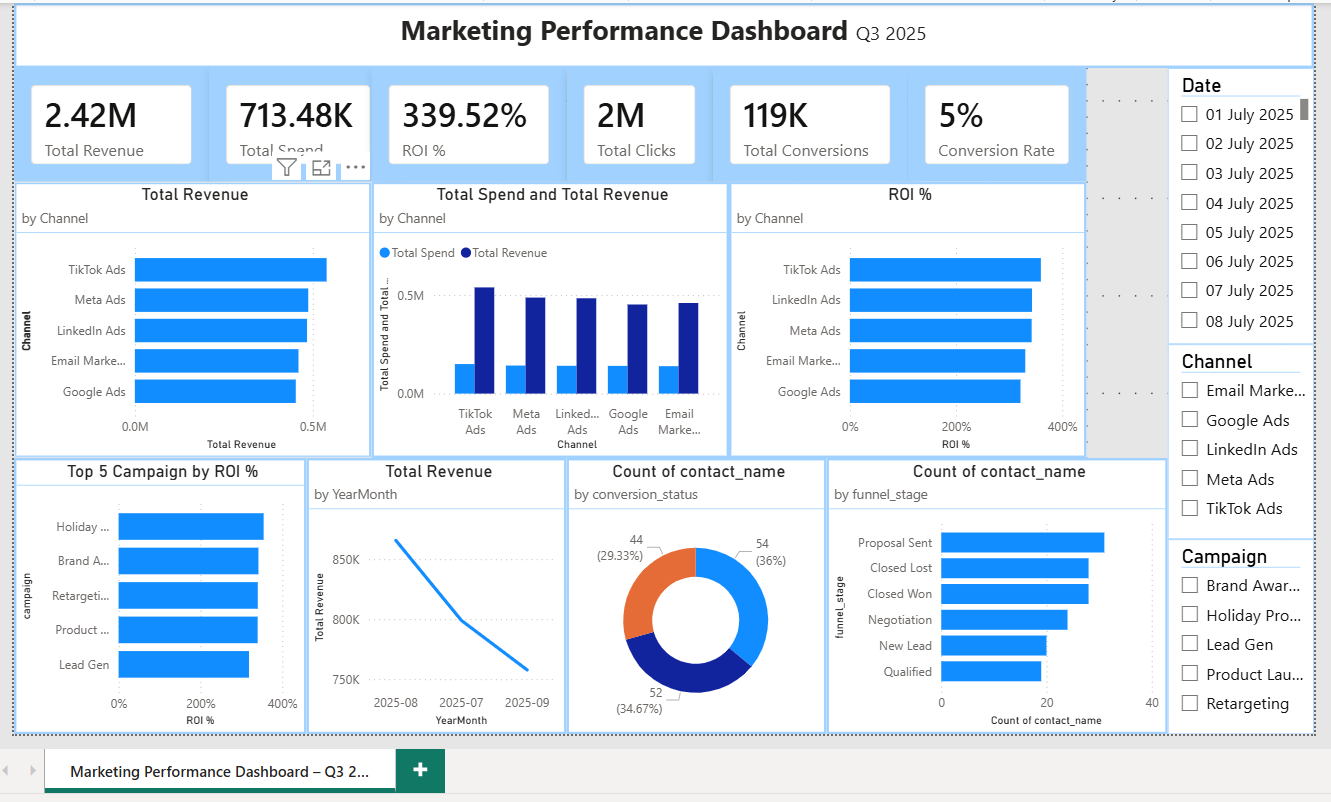

Layout of this report page (visuals, bound fields, positions):
{"tool":"powerbi","page":{"name":"Marketing Performance Dashboard – Q3 2025","canvas":[1280,720],"ordinal":0},"visuals":[{"type":"cardVisual","fields":{"Data":["Campaign_Data_Q3_Cleaned.Total Revenue"]},"box":[0,64,192,112],"z":0},{"type":"cardVisual","fields":{"Data":["Campaign_Data_Q3_Cleaned.Total Spend"]},"box":[192,64,176,112],"z":500},{"type":"cardVisual","fields":{"Data":["Campaign_Data_Q3_Cleaned.ROI %"]},"box":[352,64,192,112],"z":1000},{"type":"cardVisual","fields":{"Data":["Campaign_Data_Q3_Cleaned.Total Clicks"]},"box":[544,64,144,112],"z":1500},{"type":"cardVisual","fields":{"Data":["Campaign_Data_Q3_Cleaned.Total Conversions"]},"box":[688,64,192,112],"z":2000},{"type":"cardVisual","fields":{"Data":["Campaign_Data_Q3_Cleaned.Conversion Rate"]},"box":[880,64,176,112],"z":2500},{"type":"clusteredBarChart","fields":{"Y":["Campaign_Data_Q3_Cleaned.Total Revenue"],"Category":["ChannelTable.Channel"]},"box":[0,176,352,272],"z":6000},{"type":"clusteredColumnChart","fields":{"Y":["Campaign_Data_Q3_Cleaned.Total Spend","Campaign_Data_Q3_Cleaned.Total Revenue"],"Category":["ChannelTable.Channel"]},"box":[352,176,352,272],"z":7000},{"type":"barChart","fields":{"Y":["Campaign_Data_Q3_Cleaned.ROI %"],"Category":["ChannelTable.Channel"]},"box":[704,176,352,272],"z":8000},{"type":"donutChart","fields":{"Y":["CountNonNull(Leads Report.contact_name)"],"Category":["Leads Report.conversion_status"]},"box":[544,448,256,272],"z":9000},{"type":"barChart","title":"Top 5 Campaign by ROI %","fields":{"Y":["Campaign_Data_Q3_Cleaned.ROI %"],"Category":["Campaign_Data_Q3_Cleaned.campaign"]},"box":[0,448,288,272],"z":10000},{"type":"lineChart","fields":{"Category":["DateTable.YearMonth"],"Y":["Campaign_Data_Q3_Cleaned.Total Revenue"]},"box":[288,448,256,272],"z":11000},{"type":"barChart","fields":{"Category":["Leads Report.funnel_stage"],"Y":["CountNonNull(Leads Report.contact_name)"]},"box":[800,448,336,272],"z":12000},{"type":"slicer","fields":{"Values":["Campaign_Data_Q3_Cleaned.channel"]},"box":[1136,336,144,192],"z":13000},{"type":"slicer","fields":{"Values":["Campaign_Data_Q3_Cleaned.campaign"]},"box":[1136,528,144,192],"z":14000},{"type":"slicer","fields":{"Values":["Campaign_Data_Q3_Cleaned.date"]},"box":[1136,64,144,272],"z":14500},{"type":"textbox","box":[0,0,1280,64],"z":15000}]}

Visuals, with their boxes on the page's 1280x720 design canvas (x1, y1, x2, y2). These are canvas units, not pixel positions in the 1331x802 screenshot, which may show the page scaled, cropped or inside an application window:
cardVisual - Campaign_Data_Q3_Cleaned.Total Revenue: Rect(0, 64, 192, 176)
cardVisual - Campaign_Data_Q3_Cleaned.Total Spend: Rect(192, 64, 368, 176)
cardVisual - Campaign_Data_Q3_Cleaned.ROI %: Rect(352, 64, 544, 176)
cardVisual - Campaign_Data_Q3_Cleaned.Total Clicks: Rect(544, 64, 688, 176)
cardVisual - Campaign_Data_Q3_Cleaned.Total Conversions: Rect(688, 64, 880, 176)
cardVisual - Campaign_Data_Q3_Cleaned.Conversion Rate: Rect(880, 64, 1056, 176)
clusteredBarChart - Campaign_Data_Q3_Cleaned.Total Revenue x ChannelTable.Channel: Rect(0, 176, 352, 448)
clusteredColumnChart - Campaign_Data_Q3_Cleaned.Total Spend x Campaign_Data_Q3_Cleaned.Total Revenue: Rect(352, 176, 704, 448)
barChart - Campaign_Data_Q3_Cleaned.ROI % x ChannelTable.Channel: Rect(704, 176, 1056, 448)
donutChart - CountNonNull(Leads Report.contact_name) x Leads Report.conversion_status: Rect(544, 448, 800, 720)
"Top 5 Campaign by ROI %" barChart: Rect(0, 448, 288, 720)
lineChart - DateTable.YearMonth x Campaign_Data_Q3_Cleaned.Total Revenue: Rect(288, 448, 544, 720)
barChart - Leads Report.funnel_stage x CountNonNull(Leads Report.contact_name): Rect(800, 448, 1136, 720)
slicer - Campaign_Data_Q3_Cleaned.channel: Rect(1136, 336, 1280, 528)
slicer - Campaign_Data_Q3_Cleaned.campaign: Rect(1136, 528, 1280, 720)
slicer - Campaign_Data_Q3_Cleaned.date: Rect(1136, 64, 1280, 336)
textbox: Rect(0, 0, 1280, 64)
